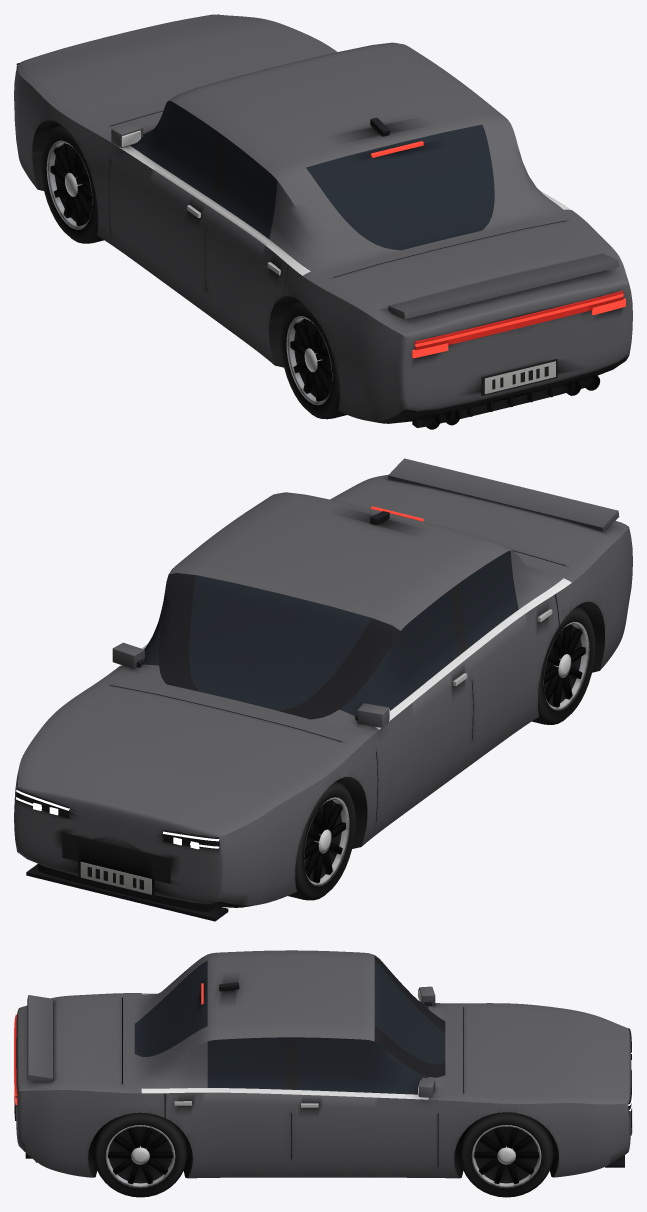
The model's file is meridian.glb.
3 views of the same model, one above another, from view 1: azimuth 30°, elevation 25°; view 2: azimuth 150°, elevation 25°; view 3: azimuth 270°, elevation 25° (orthographic). The views are drawn at different scales.
Parts seen in each view (by area): view 1: Body, Details, Wheel_RL, Wheel_FL, Rounded; view 2: Body, Details, Wheel_FL, Wheel_RL, Rounded; view 3: Body, Wheel_FR, Wheel_RR, Details, Rounded.
Boxes of the visible parts, left/top/right/bottom form: Body: left=14, top=14, right=632, bottom=423; Details: left=16, top=14, right=625, bottom=427; Wheel_RL: left=280, top=300, right=346, bottom=419; Wheel_FL: left=41, top=124, right=103, bottom=243; Rounded: left=111, top=117, right=389, bottom=147; Body: left=14, top=474, right=632, bottom=907; Details: left=16, top=458, right=619, bottom=921; Wheel_FL: left=288, top=781, right=355, bottom=900; Wheel_RL: left=532, top=606, right=595, bottom=724; Rounded: left=112, top=511, right=389, bottom=727; Body: left=16, top=950, right=631, bottom=1178; Wheel_FR: left=459, top=1112, right=553, bottom=1197; Wheel_RR: left=93, top=1112, right=187, bottom=1197; Details: left=14, top=983, right=632, bottom=1167; Rounded: left=219, top=982, right=435, bottom=1097.
Size of the model in its own units: 1.94 by 1.48 by 4.94.
